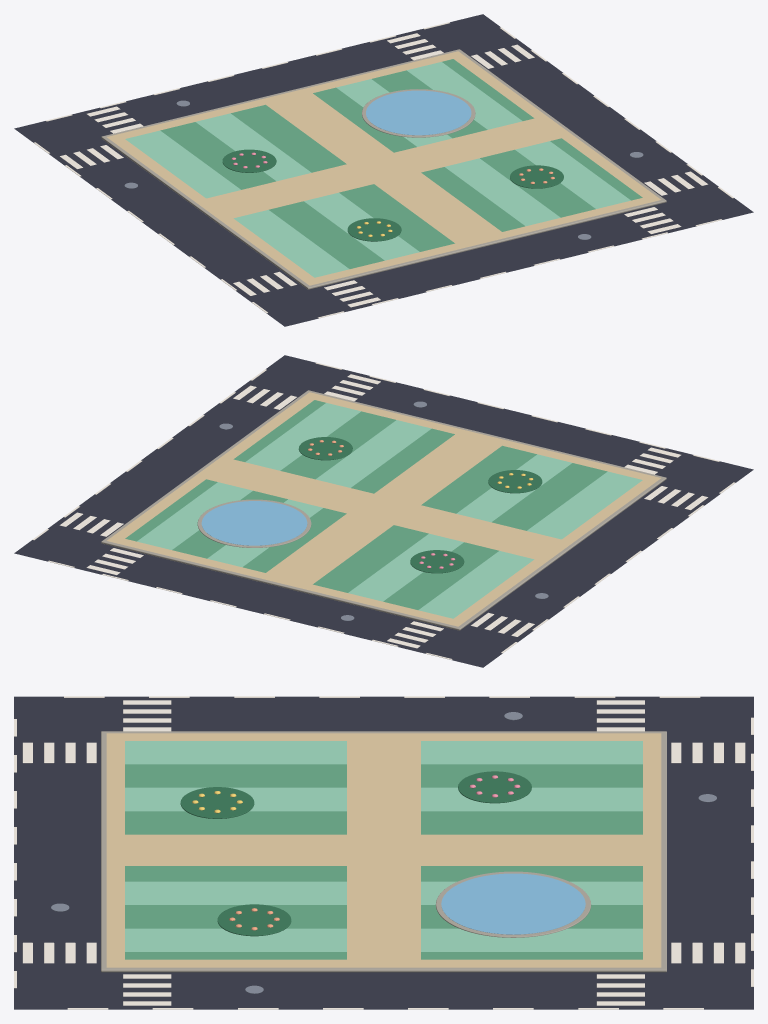
The model's file is tile_park.glb.
The picture shows the model from 3 angles, top to bottom: view 1: azimuth 30°, elevation 25°; view 2: azimuth 150°, elevation 25°; view 3: azimuth 270°, elevation 25°; orthographic projection. The views are drawn at different scales.
Parts seen in each view (by area): view 1: tile_park; view 2: tile_park; view 3: tile_park.
Part boxes in pixels (x1,y1,x2,y2): tile_park: [14, 14, 753, 326]; tile_park: [14, 355, 753, 667]; tile_park: [14, 696, 753, 1009].
Size of the model in its own units: 40 by 0.332 by 40.
Materials: 1 (1 with a texture image).
